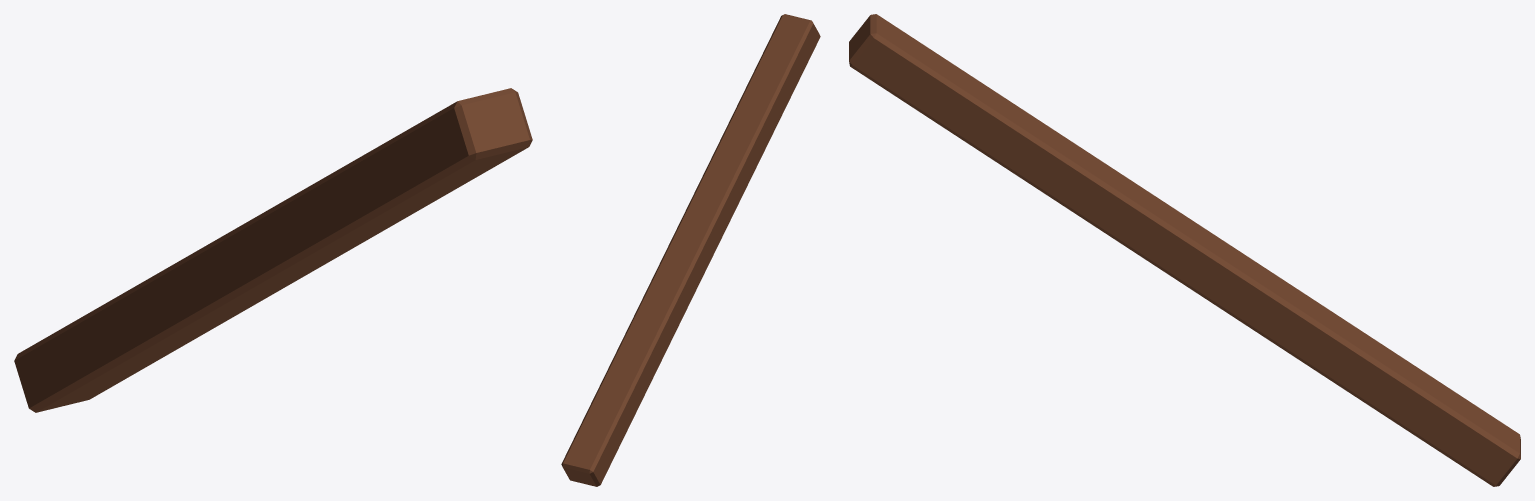
The model's file is SM_Menu_WallBrace_04.fbx.
The picture shows the model from 3 angles, left to right: view 1: azimuth 30°, elevation 25°; view 2: azimuth 150°, elevation 25°; view 3: azimuth 270°, elevation 25°; orthographic projection. The views are drawn at different scales.
Parts seen in each view (by area): view 1: SM_Menu_WallBrace_04; view 2: SM_Menu_WallBrace_04; view 3: SM_Menu_WallBrace_04.
Part boxes in pixels (x1,y1,x2,y2): SM_Menu_WallBrace_04: [14, 88, 532, 412]; SM_Menu_WallBrace_04: [561, 14, 820, 486]; SM_Menu_WallBrace_04: [849, 14, 1520, 486].
Bounding box in the file's own units: 25 × 311 × 232.
